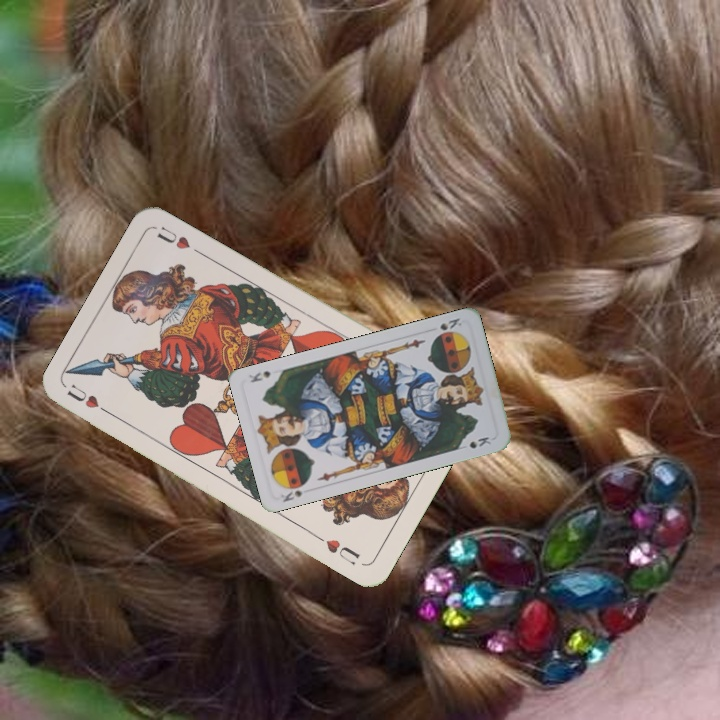HU: (63, 380, 117, 419)
SK: (277, 478, 315, 505), (436, 314, 464, 333)
